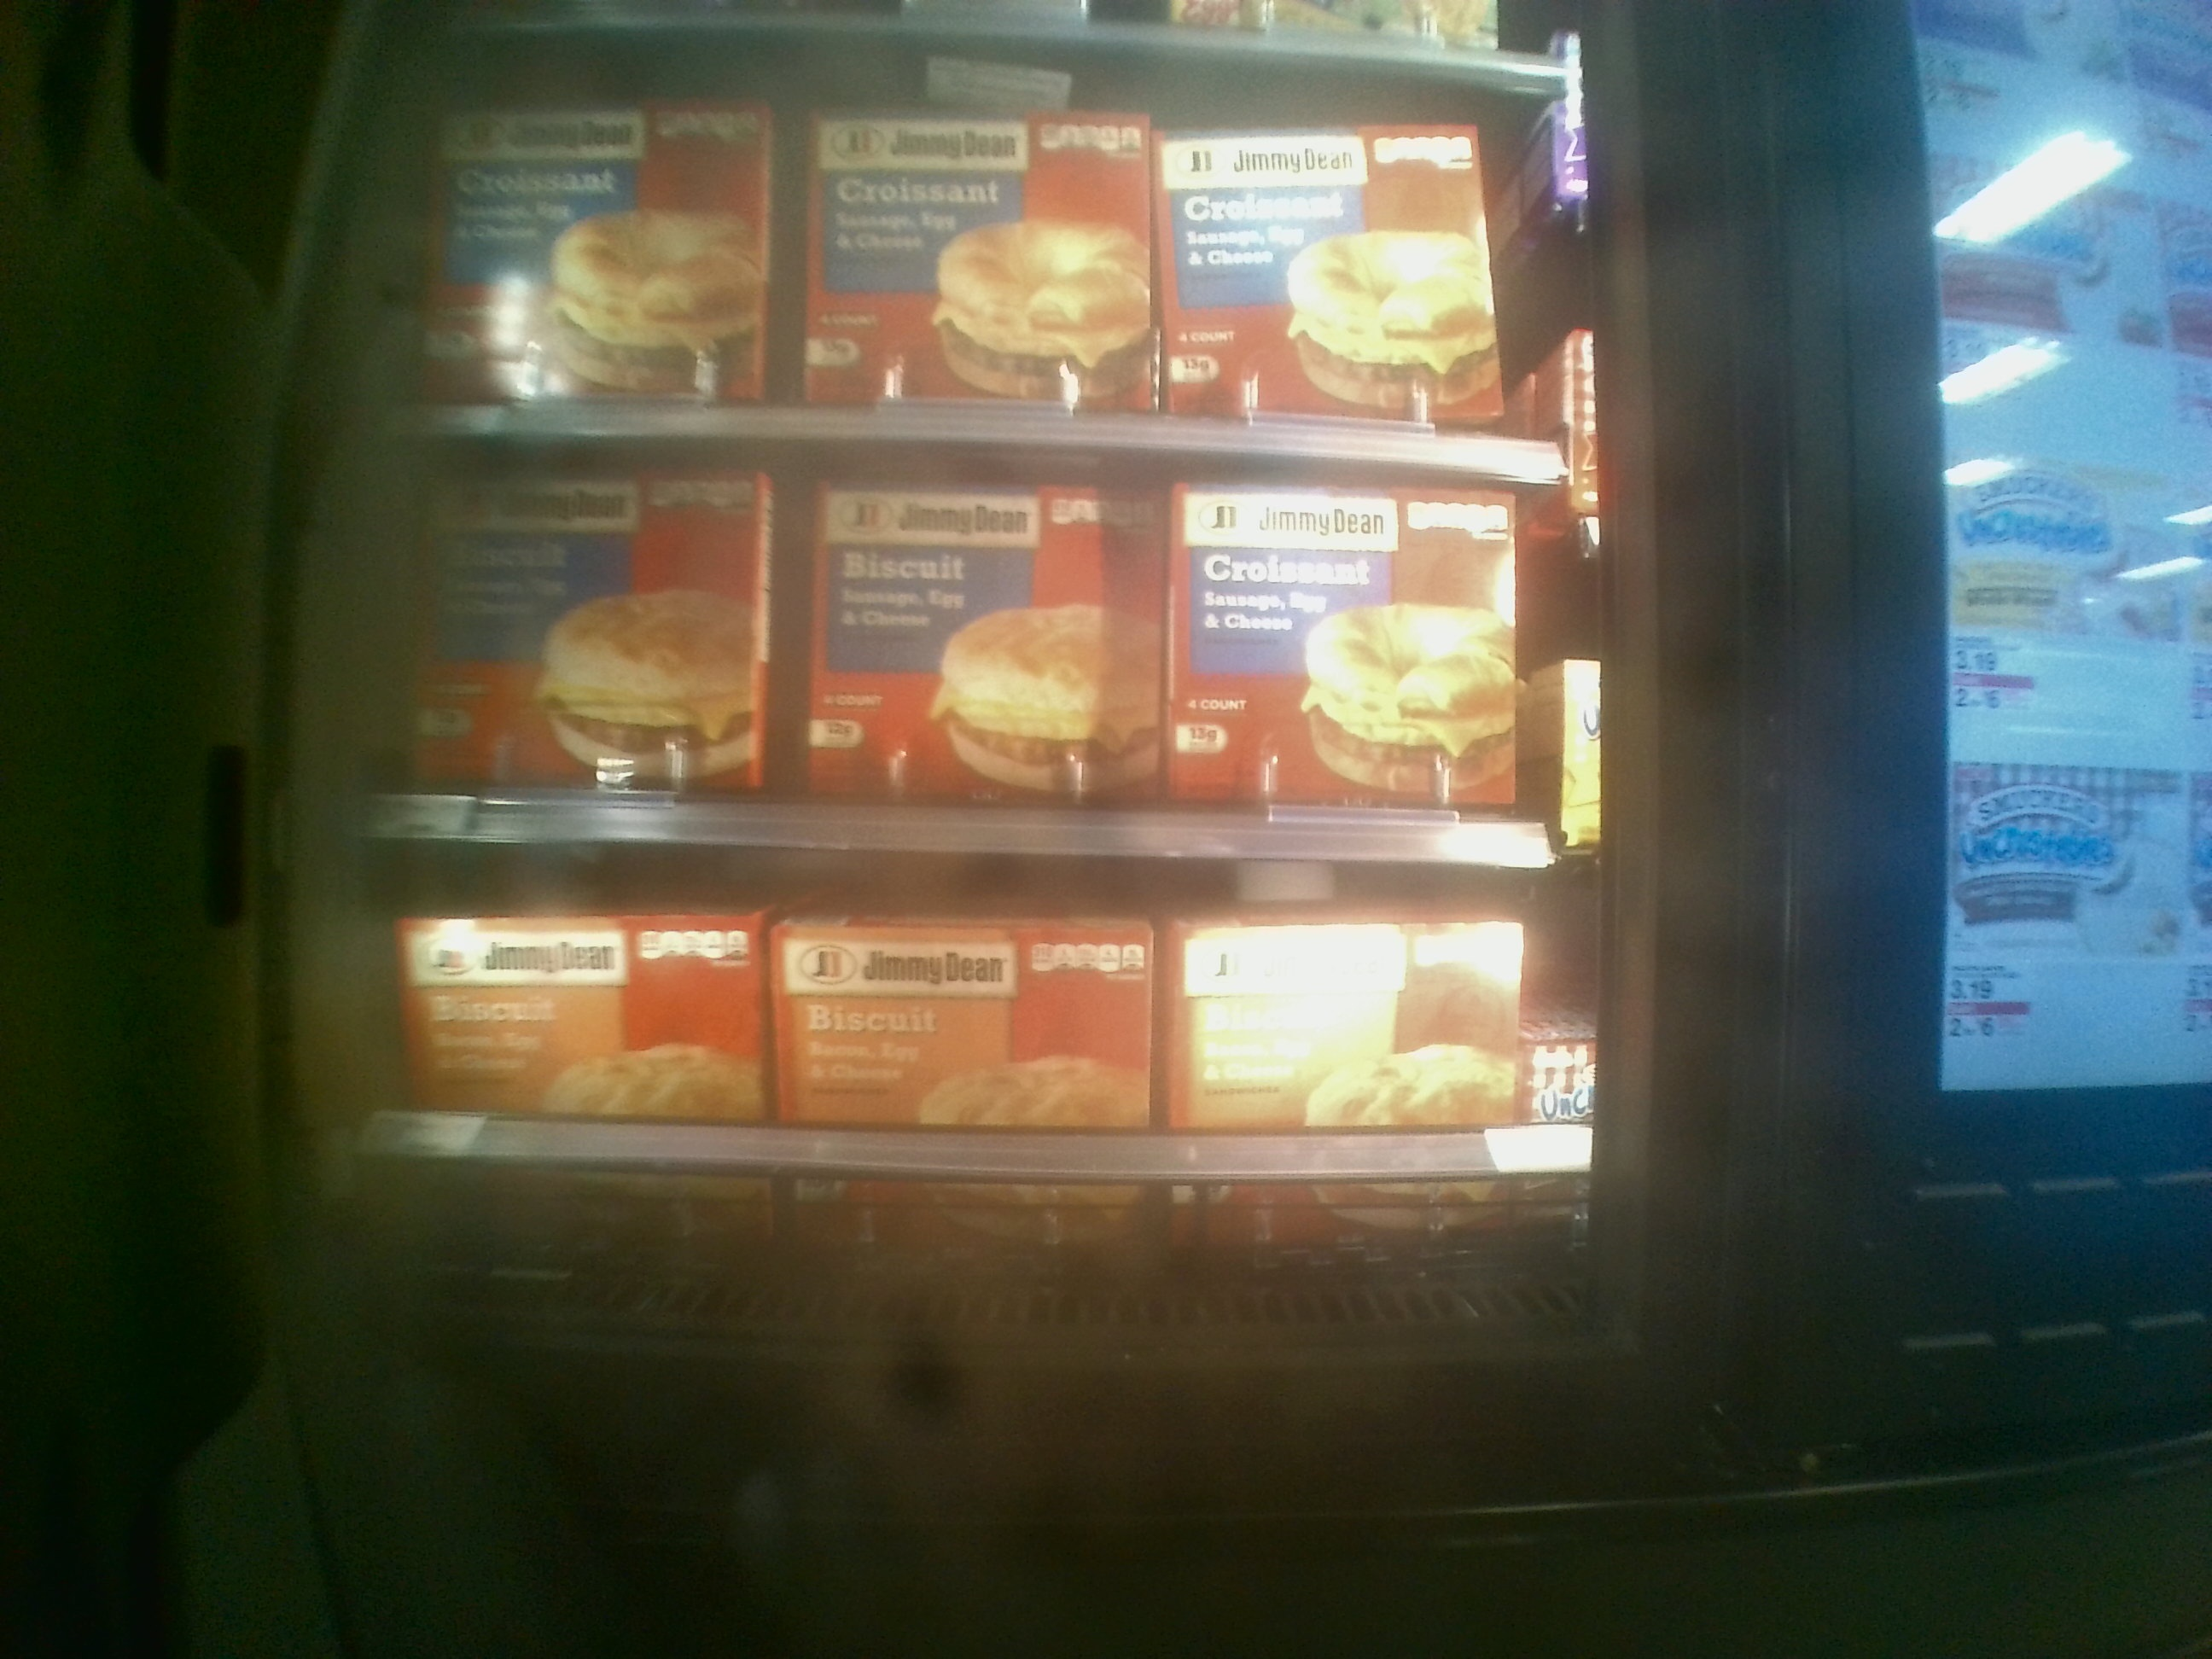shelf: (340, 842, 1604, 1279), (336, 425, 1601, 854)
